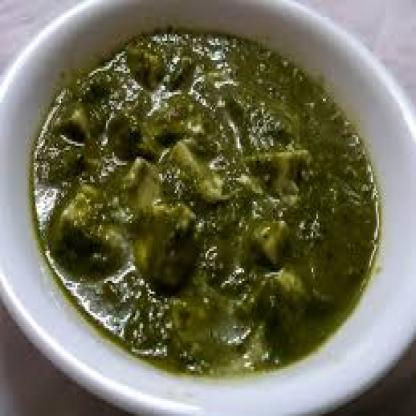palak_paneer: (31, 29, 378, 377)
